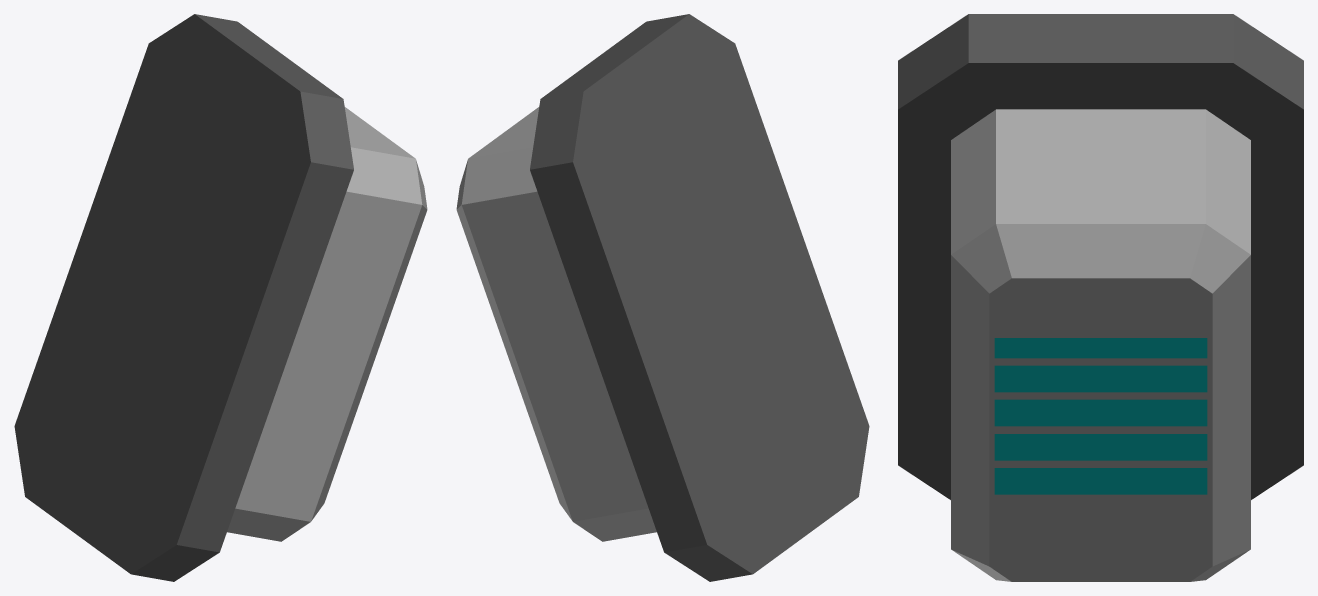
File: ConnectingBox.fbx
The picture shows the model from 3 angles, left to right: view 1: azimuth 30°, elevation 25°; view 2: azimuth 150°, elevation 25°; view 3: azimuth 270°, elevation 25°; orthographic projection. The views are drawn at different scales.
Visible parts, largest first — view 1: PowerStorage_; view 2: PowerStorage_; view 3: PowerStorage_.
Part boxes in pixels (x1,y1,x2,y2): PowerStorage_: [14, 14, 427, 581]; PowerStorage_: [456, 14, 869, 581]; PowerStorage_: [898, 14, 1303, 581].
Bounding box in the file's own units: 0.8334 × 1.18 × 0.7536.
